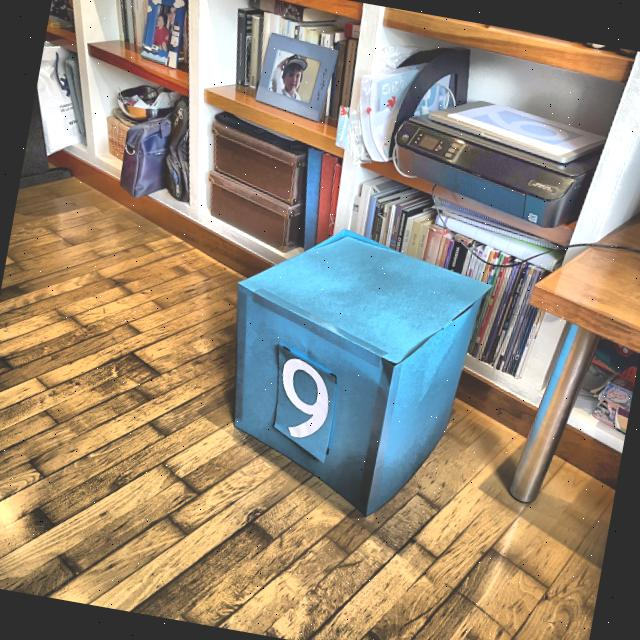blue box: (195, 210, 488, 531)
nine: (261, 342, 351, 452)
